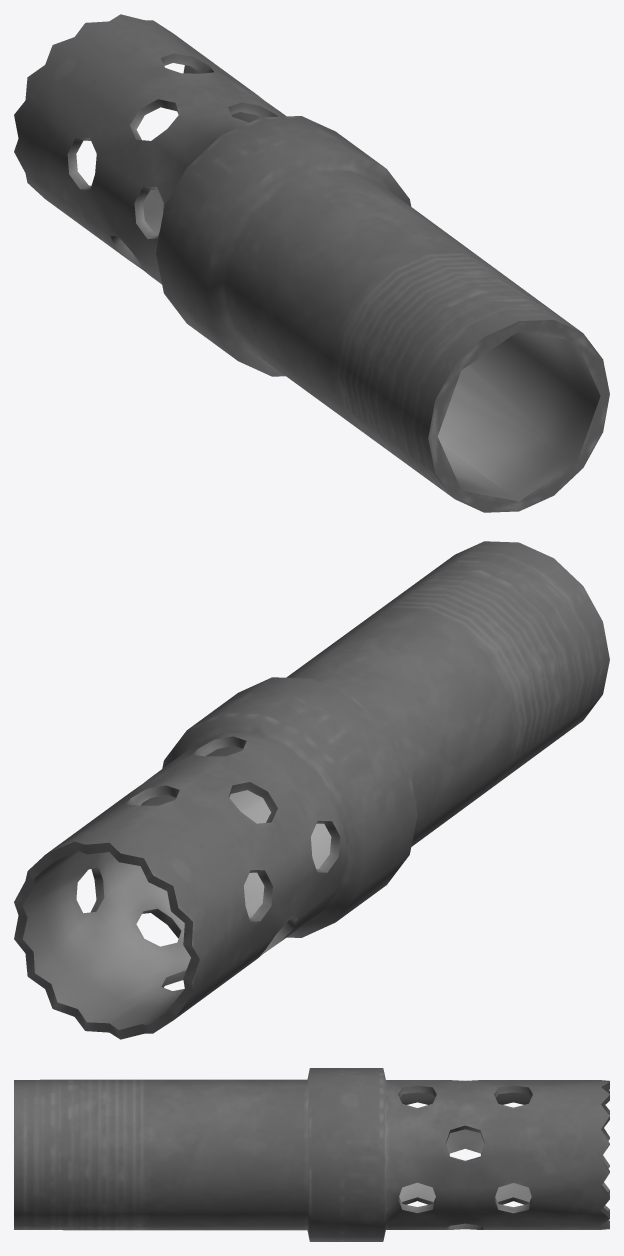
Rendered from IG_Acc_Muzzle_SHT_DAM_1.fbx.
3 renders of one model, top to bottom at view 1: azimuth 30°, elevation 25°; view 2: azimuth 150°, elevation 25°; view 3: azimuth 270°, elevation 25°, orthographic. The views are drawn at different scales.
Visible parts, largest first — view 1: Muzzle_SHT_DAM_1; view 2: Muzzle_SHT_DAM_1; view 3: Muzzle_SHT_DAM_1.
Boxes of the visible parts, x1,y1,x2,y2 form: Muzzle_SHT_DAM_1: (14,14,609,512); Muzzle_SHT_DAM_1: (14,541,609,1039); Muzzle_SHT_DAM_1: (14,1068,609,1241).
Bounding box in the file's own units: 0.0482 × 0.0482 × 0.1649.
